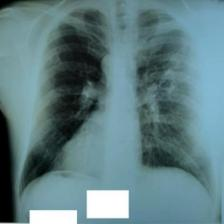tuberculosis: (16, 0, 215, 204)
